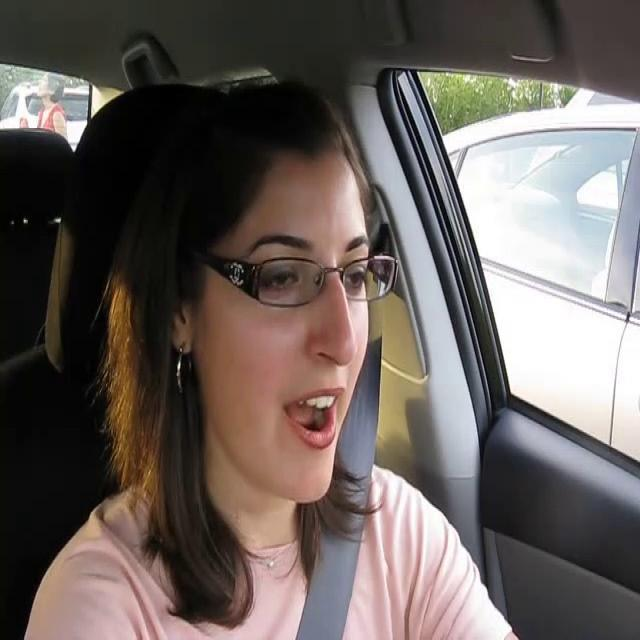open-mouth: (278, 383, 346, 450)
